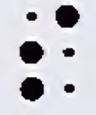one_cell_alphabet_sang-ayon: (19, 5, 80, 102)
